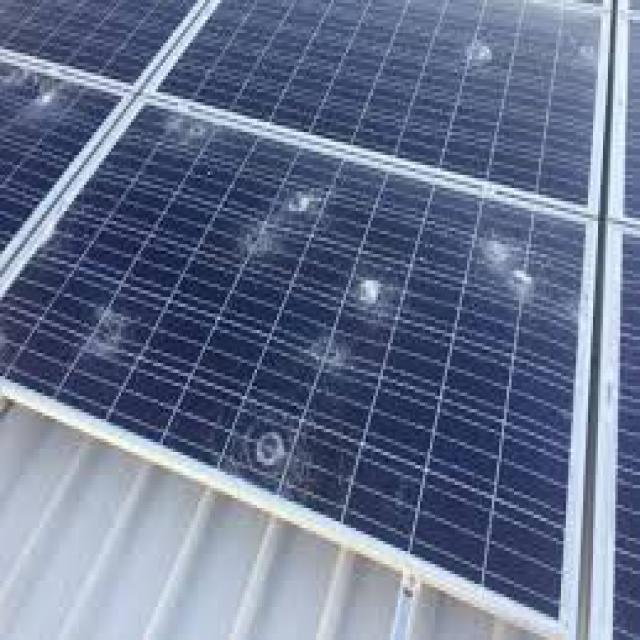faulty: (0, 97, 587, 627), (160, 0, 601, 209), (0, 63, 116, 258)
